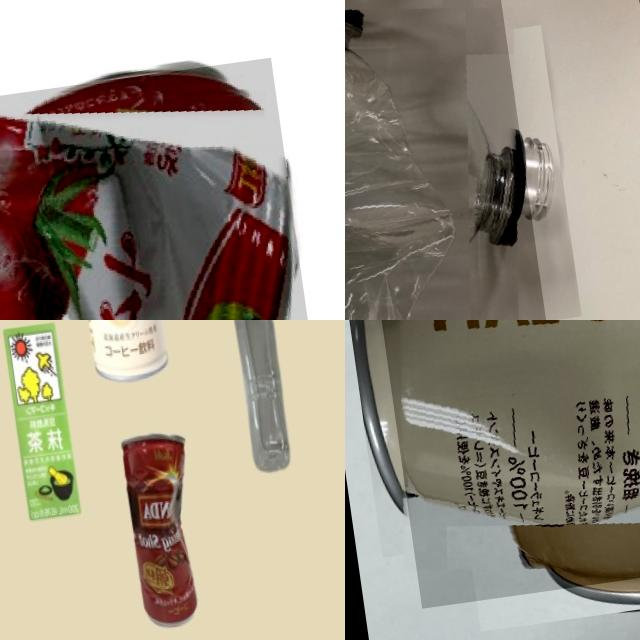Aluminium Foil: (0, 320, 89, 532)
Can: (0, 57, 324, 320), (359, 320, 640, 608), (111, 420, 207, 630), (58, 320, 182, 390)
Transparent Plastic Bottle: (345, 0, 554, 320), (223, 320, 302, 486)
